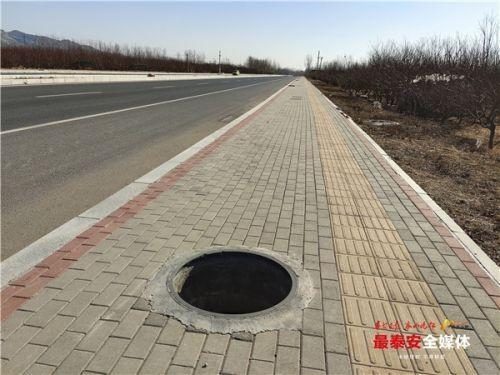wellcover: (146, 233, 315, 330)
